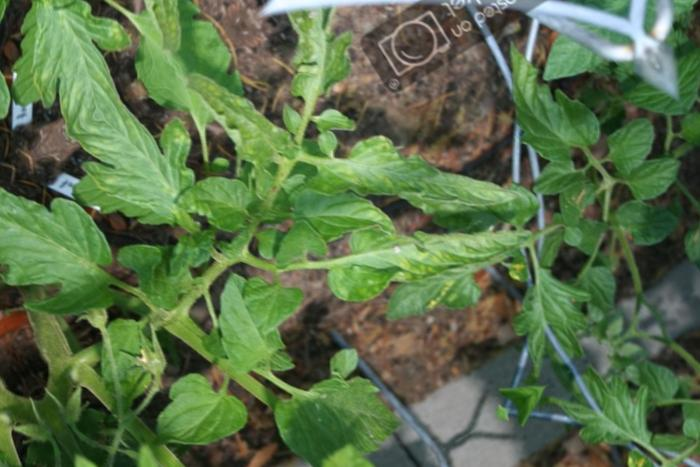Tomato leaf mosaic virus: (53, 74, 254, 287), (325, 85, 515, 273), (0, 137, 152, 351), (467, 22, 615, 187), (251, 336, 414, 467), (131, 352, 255, 467), (173, 150, 284, 257), (226, 261, 311, 345)
